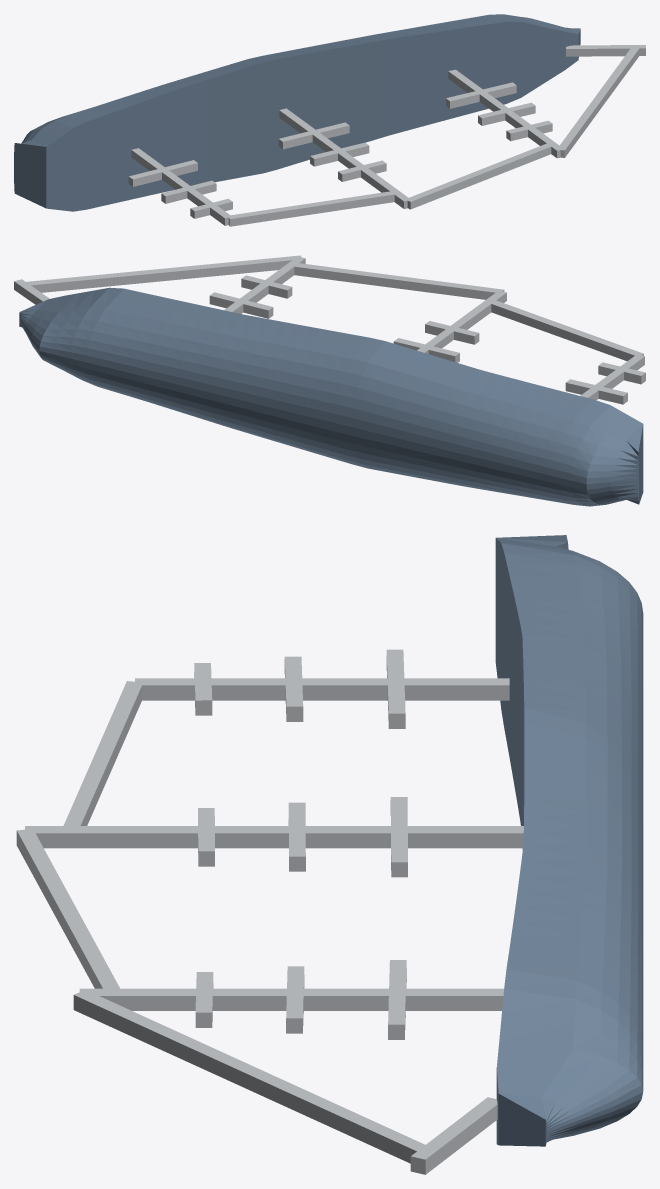
The model's file is loft-square-rigger-slender.glb.
3 views of the same model, one above another, from view 1: azimuth 30°, elevation 25°; view 2: azimuth 150°, elevation 25°; view 3: azimuth 270°, elevation 25° (orthographic). The views are drawn at different scales.
Visible parts, largest first — view 1: loft-square-rigger-slender; view 2: loft-square-rigger-slender; view 3: loft-square-rigger-slender.
Boxes of the visible parts, x1=… form: loft-square-rigger-slender: x1=14, y1=14, x2=645, y2=226; loft-square-rigger-slender: x1=14, y1=255, x2=645, y2=506; loft-square-rigger-slender: x1=16, y1=535, x2=643, y2=1174.
Bounding box in the file's own units: 1.97 × 0.3503 × 0.8949.
